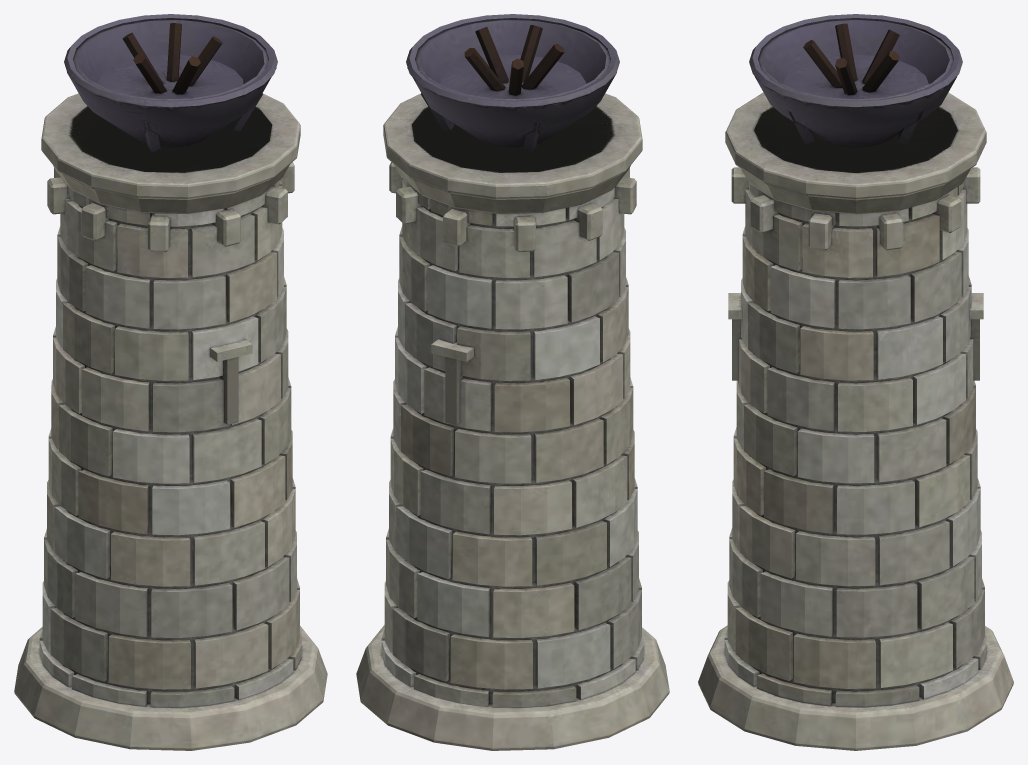
Rendered from kit_tower.glb.
3 views of the same model, side by side, from view 1: azimuth 30°, elevation 25°; view 2: azimuth 150°, elevation 25°; view 3: azimuth 270°, elevation 25° (orthographic).
Visible parts, largest first — view 1: cyl; view 2: cyl; view 3: cyl.
Part boxes in pixels (x1,y1,x2,y2): cyl: (14, 14, 327, 750); cyl: (356, 14, 669, 750); cyl: (698, 14, 1013, 750).
Size of the model in its own units: 3.87 by 8.71 by 3.87.
Materials: 1 (1 with a texture image).
